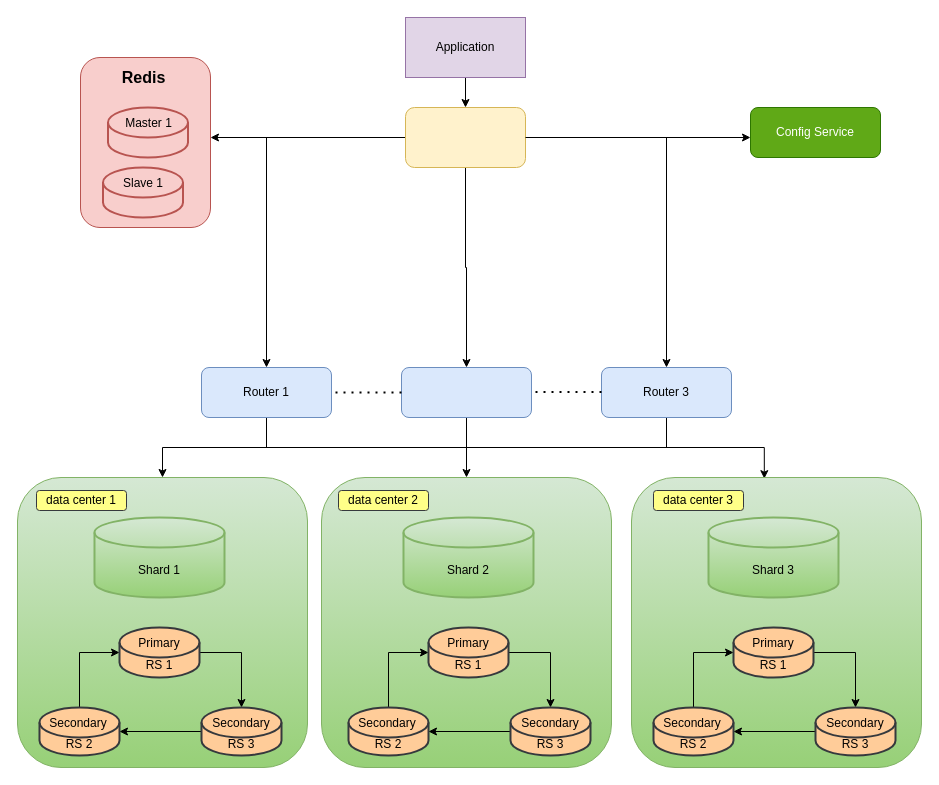
Image size: 939x785. Some labels were removed from this diagram. The shapes that lost their labels are listed below. From the top down, each one's box as (x1, y1, x2, y2) in pixels, then its label:
(106, 106, 188, 158): Redis 1
(404, 106, 526, 168): pymongo-api
(102, 166, 184, 218): Redis 2
(400, 366, 532, 418): Router 2
